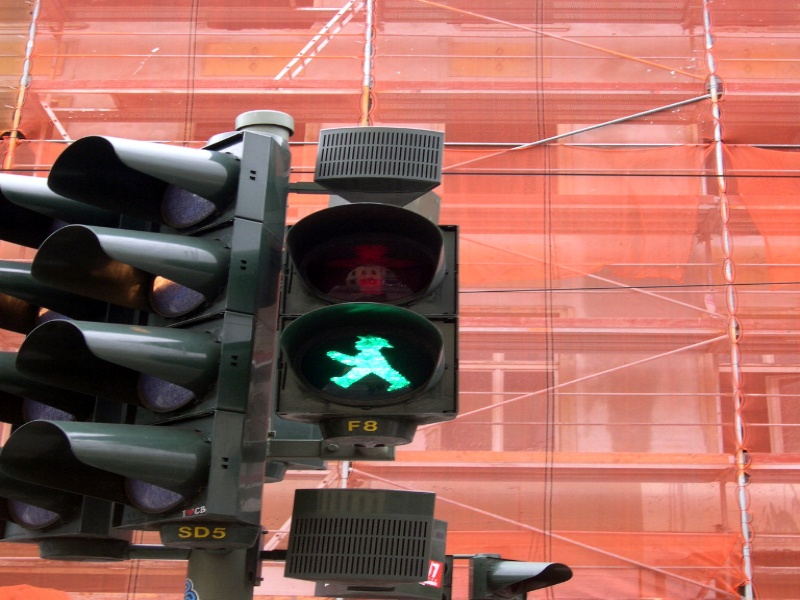pedestrian_crossing_green: (283, 303, 444, 414)
